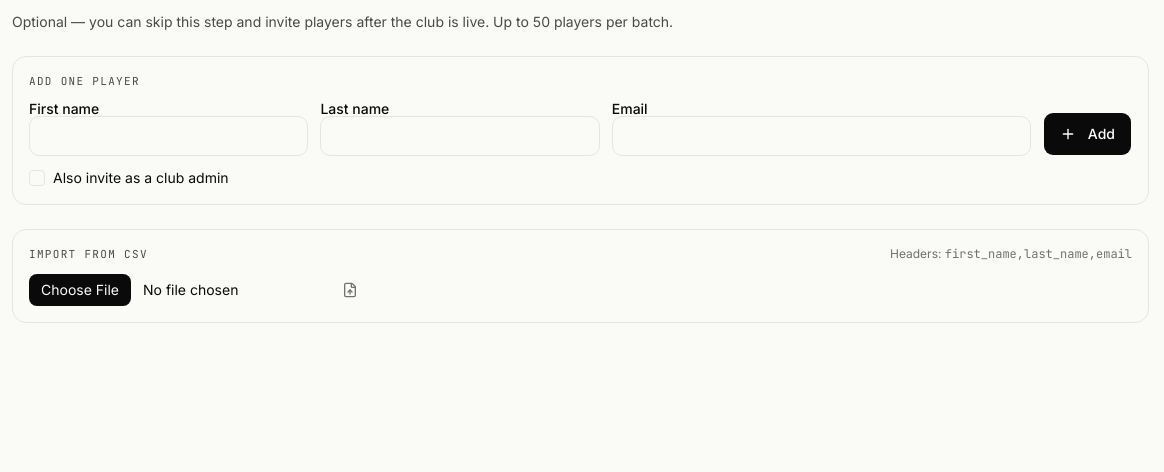
Step4Players › appends a valid player and clears the draft
Type "Ada" into the field with test id "draft-first-name" at x=169, y=136, box [29,116,308,156]
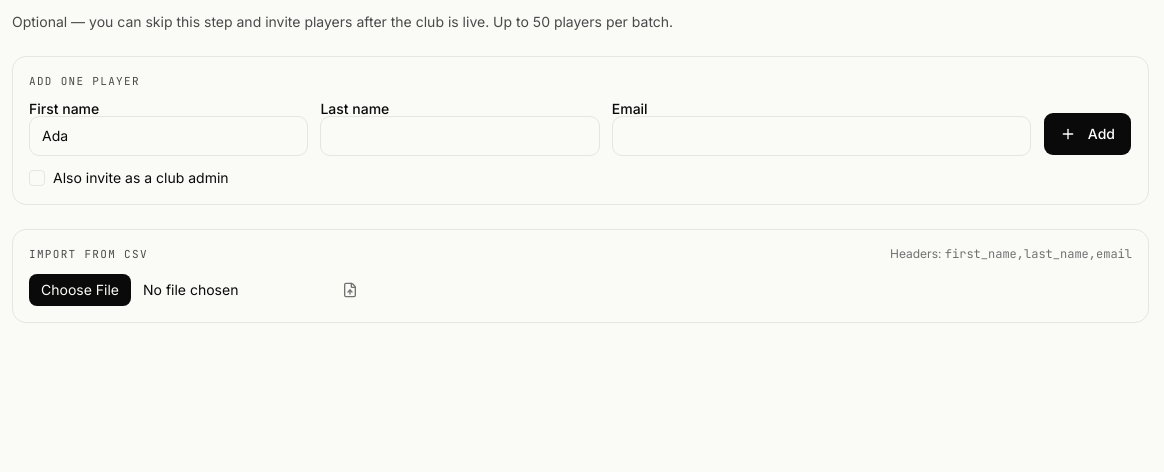
Type "Lovelace" into the field with test id "draft-last-name" at x=460, y=136, box [320,116,600,156]
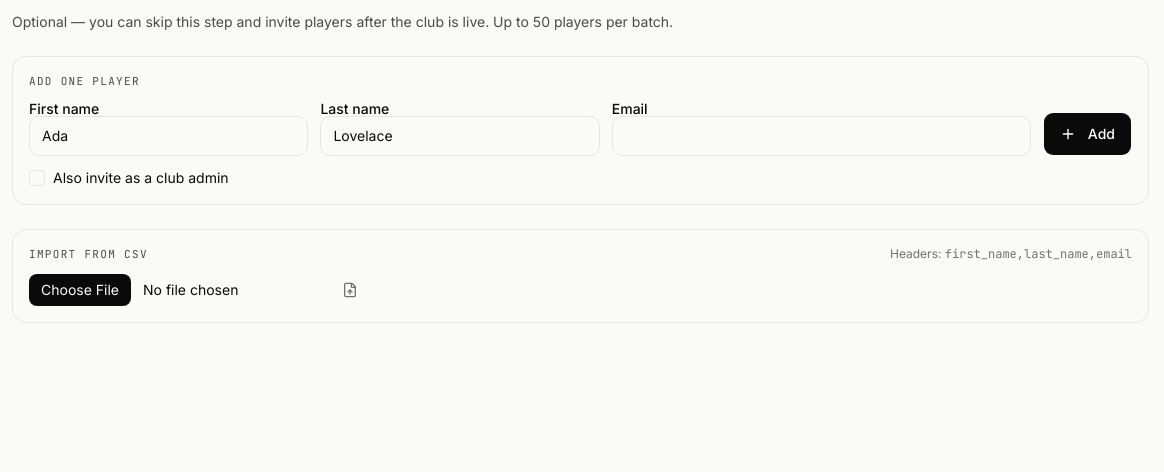
Type "ada@club.co.za" into the field with test id "draft-email" at x=821, y=136, box [612,116,1031,156]
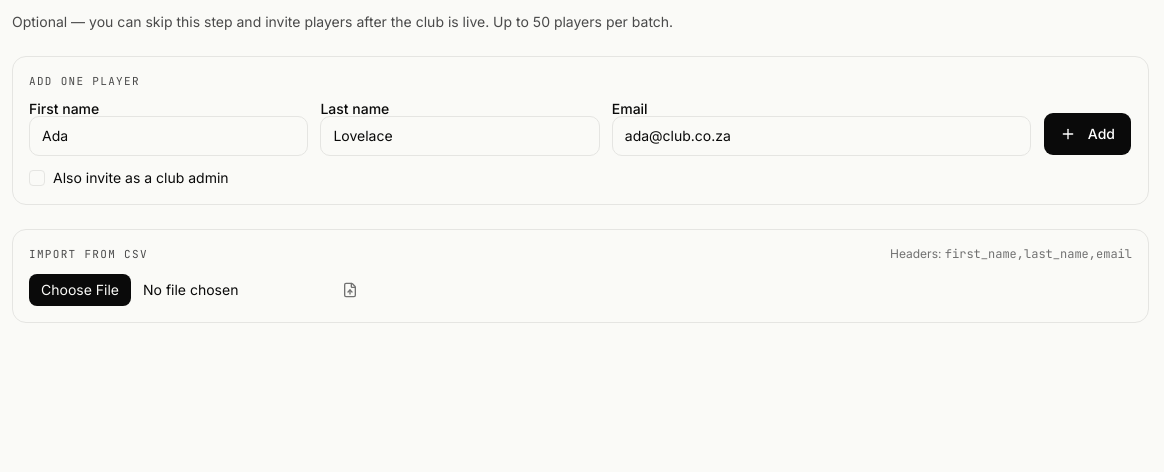
Click the button with test id "draft-add" at x=1087, y=134, box [1043,112,1132,156]
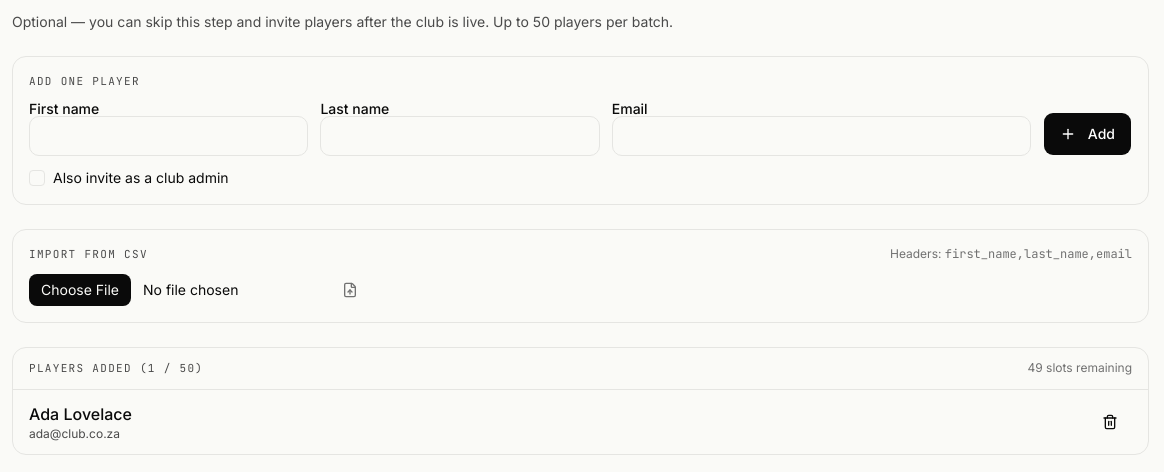
Result: the list item with test id "player-row-0" shows "Ada Lovelace" at [13,390,1148,454]
Result: the field with test id "draft-first-name" is empty at [29,116,308,156]
